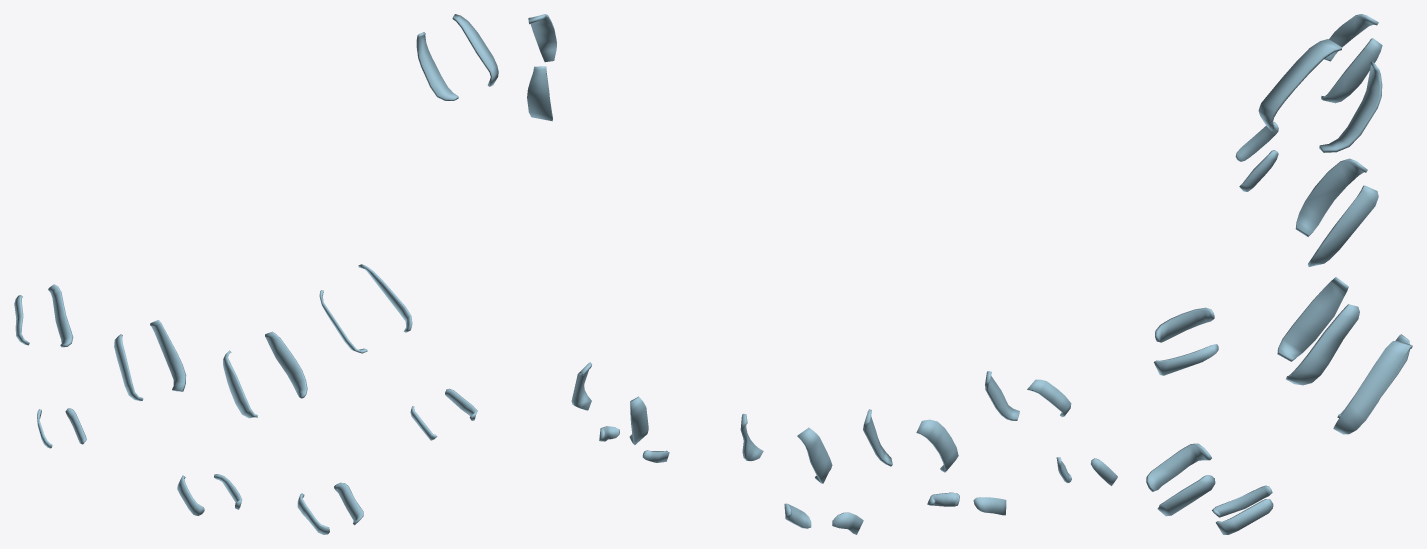
The model's file is articulacoes-collateral-interphalangeal-ligaments-of-hand-l.glb.
3 views of the same model, side by side, from view 1: azimuth 30°, elevation 25°; view 2: azimuth 150°, elevation 25°; view 3: azimuth 270°, elevation 25° (orthographic). The views are drawn at different scales.
Visible parts, largest first — view 1: Collateral interphalangeal ligaments of hand.l; view 2: Collateral interphalangeal ligaments of hand.l; view 3: Collateral interphalangeal ligaments of hand.l.
Boxes of the visible parts, left/top/right/bottom form: Collateral interphalangeal ligaments of hand.l: left=14, top=14, right=498, bottom=534; Collateral interphalangeal ligaments of hand.l: left=527, top=14, right=1117, bottom=534; Collateral interphalangeal ligaments of hand.l: left=1146, top=14, right=1412, bottom=534.
Bounding box in the file's own units: 0.1048 × 0.0918 × 0.0381.
